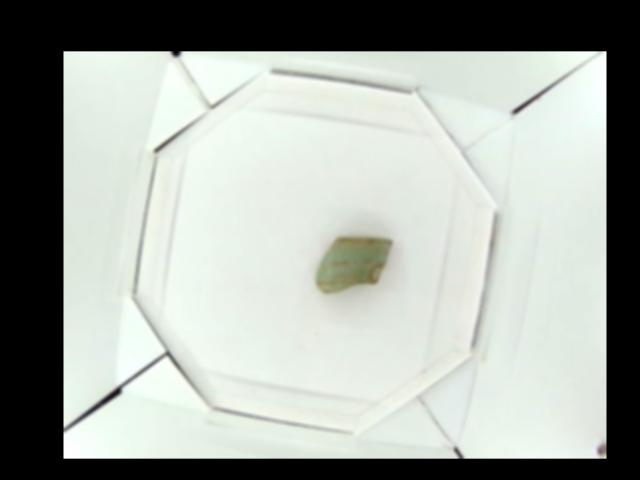China: (316, 229, 393, 298)
